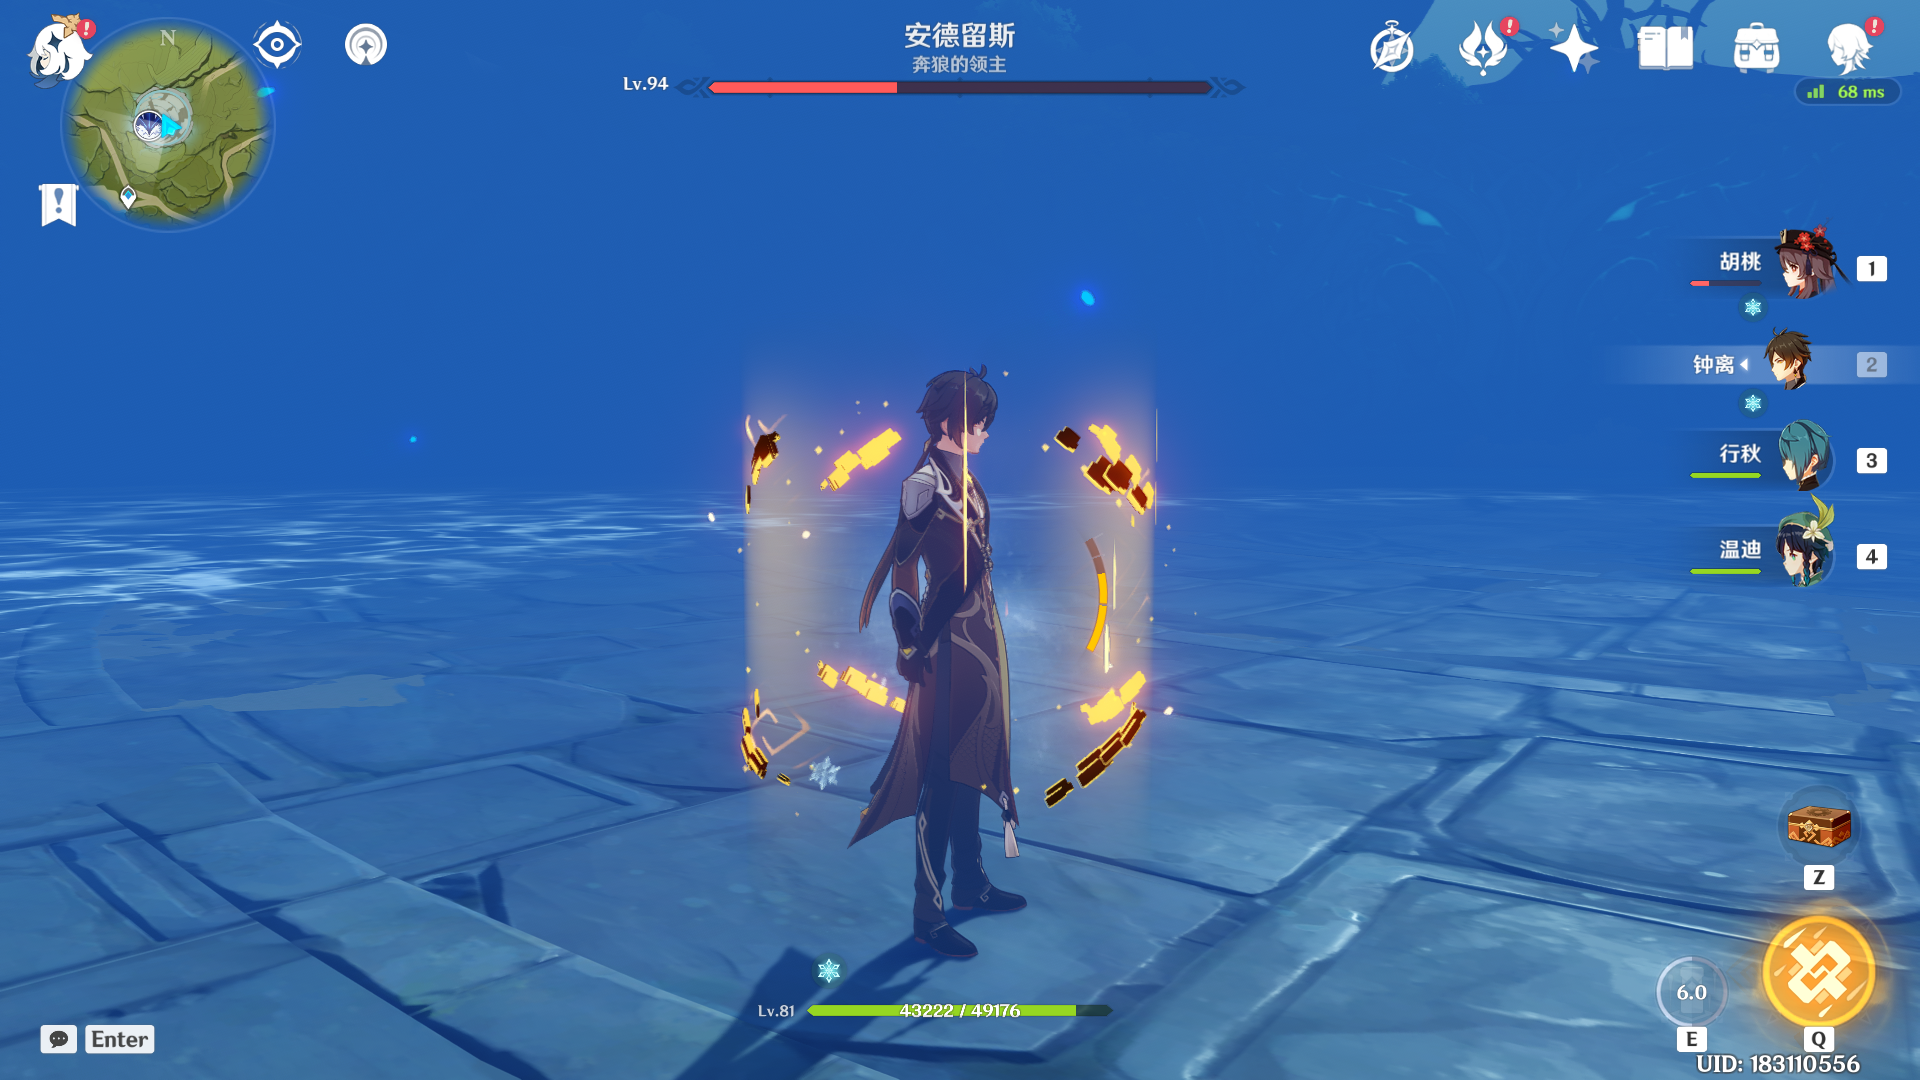character: (727, 323, 1153, 955)
